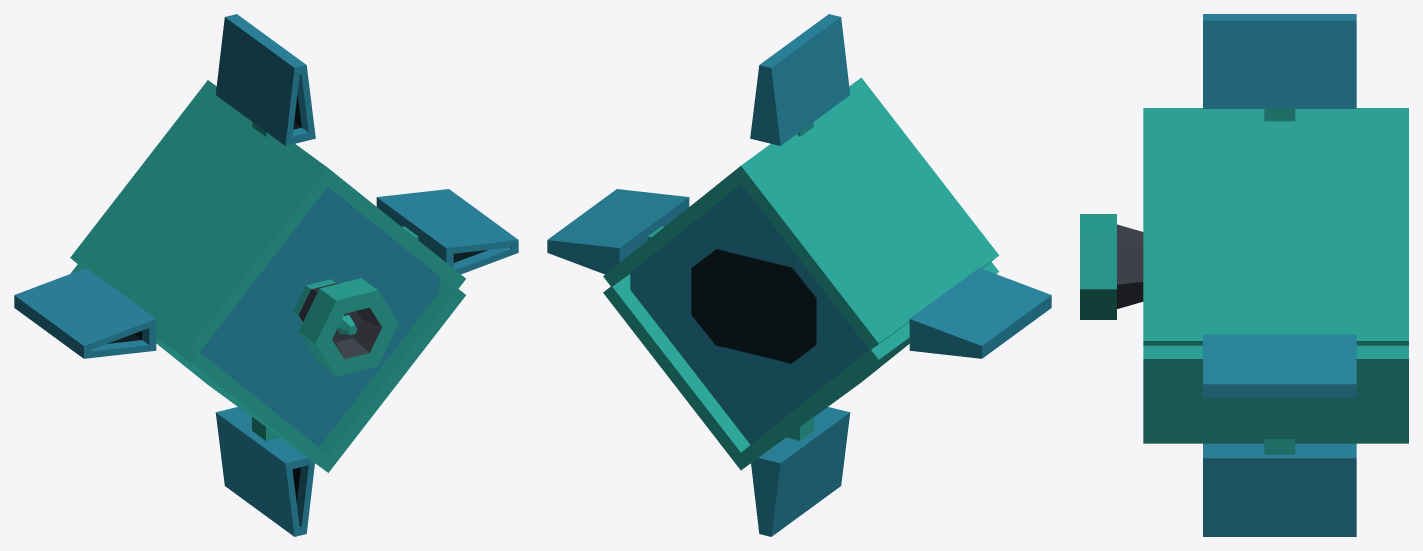
The model's file is ship_exterior_02.glb.
3 renders of one model, left to right at view 1: azimuth 30°, elevation 25°; view 2: azimuth 150°, elevation 25°; view 3: azimuth 270°, elevation 25°, orthographic. The views are drawn at different scales.
Visible parts, largest first — view 1: roof_halfLarge (×4), engine_flatEdge (×4), engine_turbine, roof_flatCenter (×2); view 2: roof_halfLarge (×4), engine_flatEdge (×4), block (×4), block_corner_large (×3), roof_flatCenter (×2); view 3: roof_halfLarge (×2), engine_flatEdge (×3), engine_turbine, block (×2).
Boxes of the visible parts, x1=… form: roof_halfLarge (×4): x1=70, y1=80, x2=465, y2=472; engine_flatEdge (×4): x1=14, y1=14, x2=518, y2=536; engine_turbine: x1=293, y1=278, x2=398, y2=376; roof_flatCenter (×2): x1=201, y1=275, x2=439, y2=349; roof_halfLarge (×4): x1=603, y1=77, x2=998, y2=470; engine_flatEdge (×4): x1=547, y1=14, x2=1051, y2=536; block (×4): x1=691, y1=251, x2=816, y2=363; block_corner_large (×3): x1=691, y1=249, x2=816, y2=363; roof_flatCenter (×2): x1=630, y1=273, x2=867, y2=347; roof_halfLarge (×2): x1=1143, y1=108, x2=1408, y2=443; engine_flatEdge (×3): x1=1203, y1=14, x2=1356, y2=536; engine_turbine: x1=1080, y1=214, x2=1143, y2=319; block (×2): x1=1264, y1=109, x2=1295, y2=454.
Size of the model in its own units: 3.6 by 3.71 by 2.14.
